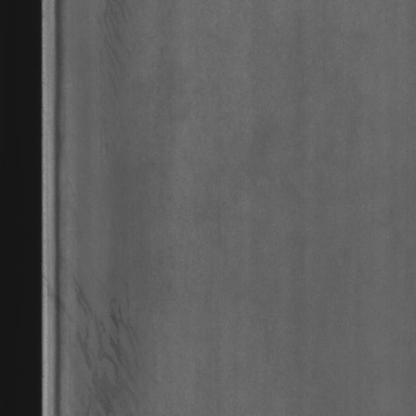water_spot: (73, 252, 143, 416)
